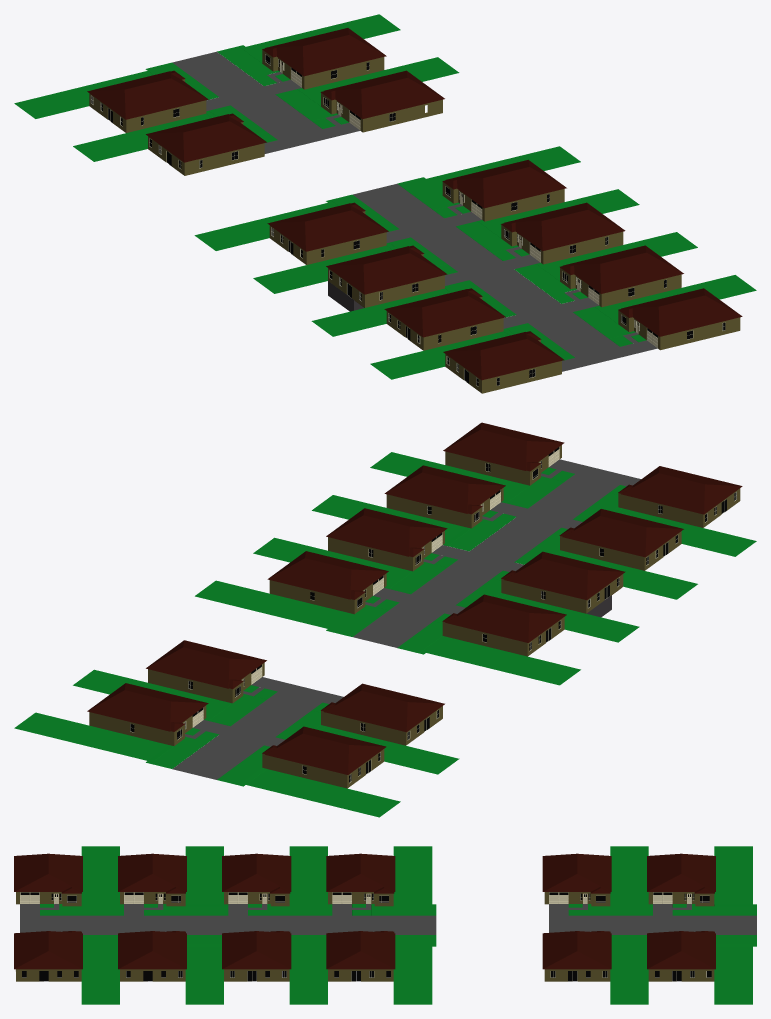
The model's file is HouseLayout.fbx.
3 views of the same model, one above another, from view 1: azimuth 30°, elevation 25°; view 2: azimuth 150°, elevation 25°; view 3: azimuth 270°, elevation 25° (orthographic). The views are drawn at different scales.
Parts seen in each view (by area): view 1: Grass, Path.002, Empty template, Path.001, Roof.003, Roof.001, Roof.002, Roof, Roof.008, Roof.011, Roof.005, Roof.007 (+16 smaller); view 2: Grass, Empty template, Path.002, Path.001, Roof.003, Roof.001, Roof, Roof.009, Roof.002, Roof.008, Roof.007, Roof.005 (+16 smaller); view 3: Grass, Empty template, Path.002, Path.001, Roof.005, Roof.004, Roof.011, Roof.001, Roof, Roof.009, Roof.007, Roof.010 (+16 smaller).
Part boxes in pixels (bbox=[...]): Grass: bbox=[194, 146, 756, 379]; Path.002: bbox=[353, 184, 657, 371]; Empty template: bbox=[14, 14, 459, 161]; Path.001: bbox=[172, 51, 360, 153]; Roof.003: bbox=[443, 331, 564, 380]; Roof.001: bbox=[267, 202, 388, 251]; Roof.002: bbox=[384, 288, 505, 337]; Roof: bbox=[326, 245, 447, 294]; Roof.008: bbox=[87, 70, 208, 119]; Roof.011: bbox=[320, 70, 444, 119]; Roof.005: bbox=[442, 159, 566, 208]; Roof.007: bbox=[618, 288, 742, 336]; Grass: bbox=[195, 452, 756, 685]; Empty template: bbox=[14, 669, 459, 817]; Path.002: bbox=[353, 459, 640, 647]; Path.001: bbox=[172, 677, 343, 779]; Roof.003: bbox=[618, 466, 742, 514]; Roof.001: bbox=[442, 594, 566, 642]; Roof: bbox=[501, 551, 625, 600]; Roof.009: bbox=[321, 683, 444, 732]; Roof.002: bbox=[559, 509, 683, 557]; Roof.008: bbox=[262, 726, 386, 774]; Roof.007: bbox=[443, 422, 564, 471]; Roof.005: bbox=[267, 551, 388, 599]; Grass: bbox=[40, 846, 436, 1004]; Empty template: bbox=[568, 846, 756, 1004]; Path.002: bbox=[20, 904, 436, 934]; Path.001: bbox=[549, 904, 756, 934]; Roof.005: bbox=[326, 931, 395, 969]; Roof.004: bbox=[222, 931, 291, 969]; Roof.011: bbox=[542, 931, 611, 969]; Roof.001: bbox=[326, 853, 395, 893]; Roof: bbox=[222, 853, 291, 893]; Roof.009: bbox=[542, 853, 611, 893]; Roof.007: bbox=[14, 931, 82, 969]; Roof.010: bbox=[647, 931, 715, 969].
Size of the model in its own units: 5408 by 574 by 10708.
